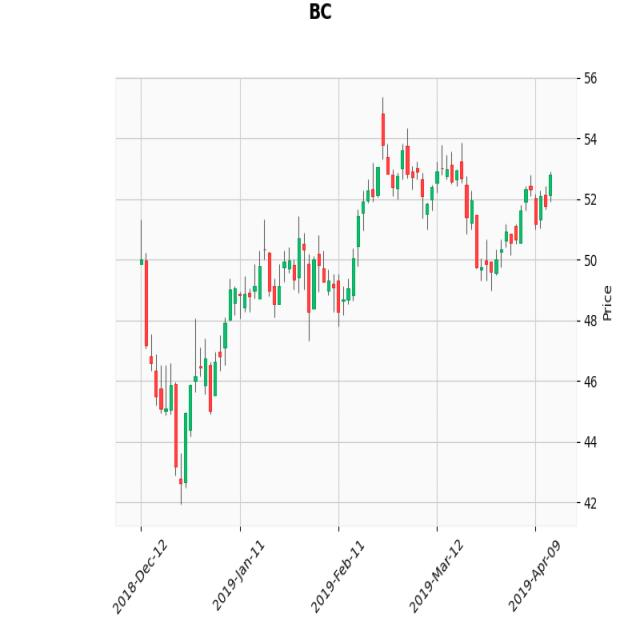Inverse-Head-Shoulders: (137, 306, 231, 495)
